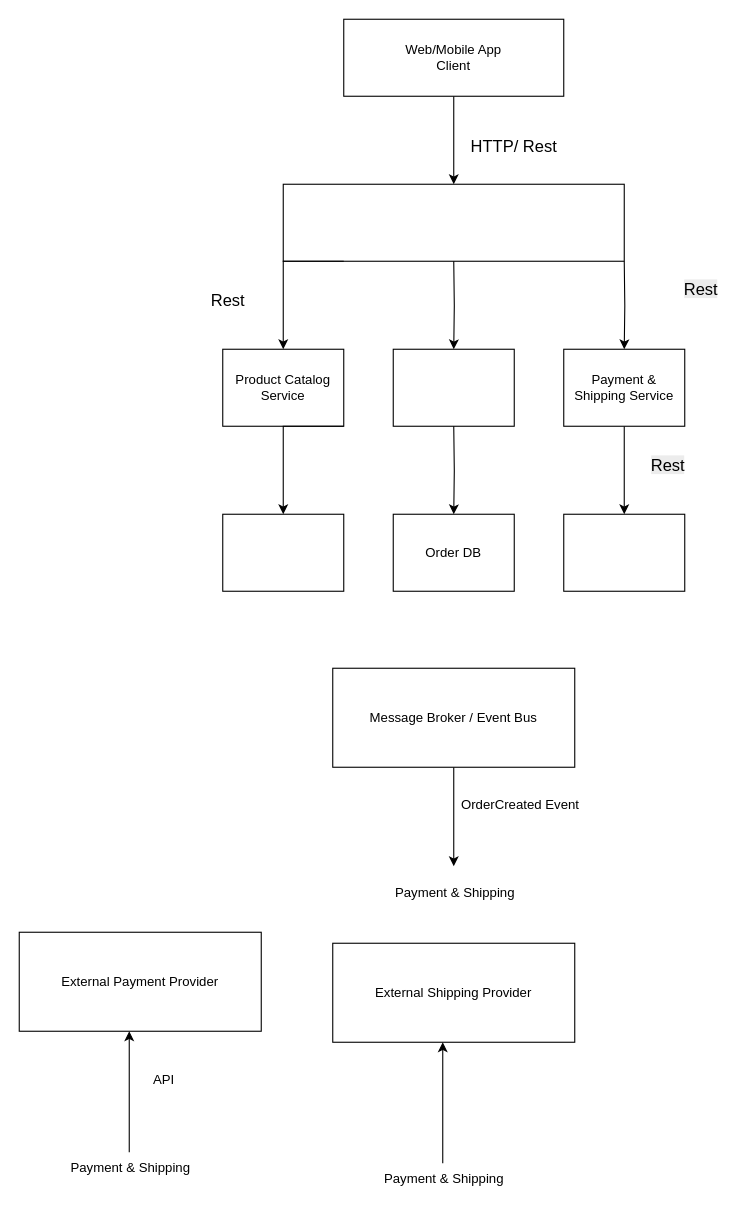
This 754x1227 diagram has some shape labels left out. Here are the shapes that lost their labels. From the top down, the centre of each, then its label:
At pixel 453 222: "API Gateway / ASP.NET Core".
At pixel 453 387: "Order Management Service".
At pixel 283 552: "Product Catalog DB".
At pixel 624 552: "Payment & Shipping DB".
